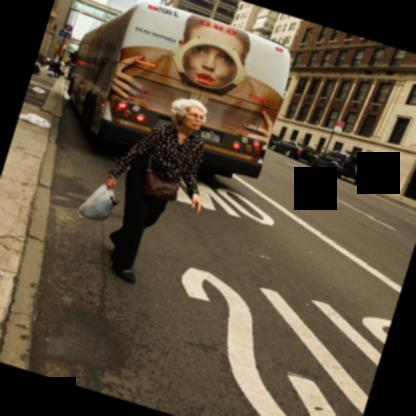handbag: (143, 135, 193, 204), (375, 177, 380, 183)
